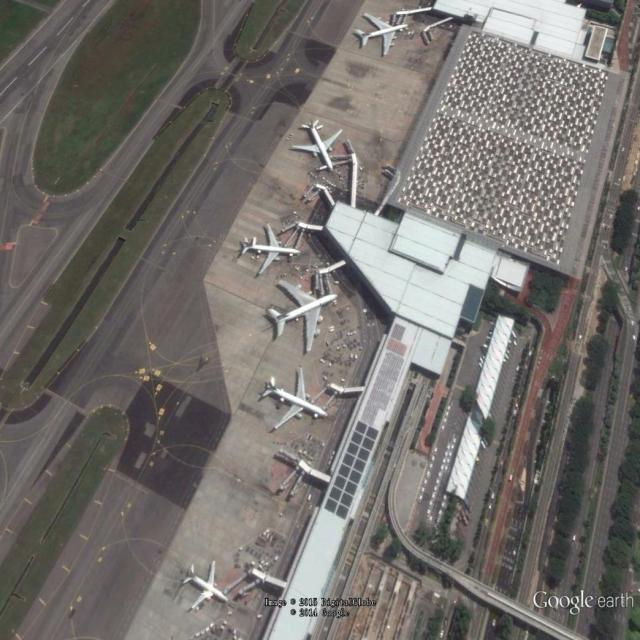aircraft: (264, 279, 342, 357), (257, 366, 330, 435), (240, 221, 305, 278), (289, 120, 347, 175), (179, 559, 232, 613), (353, 13, 411, 59)
